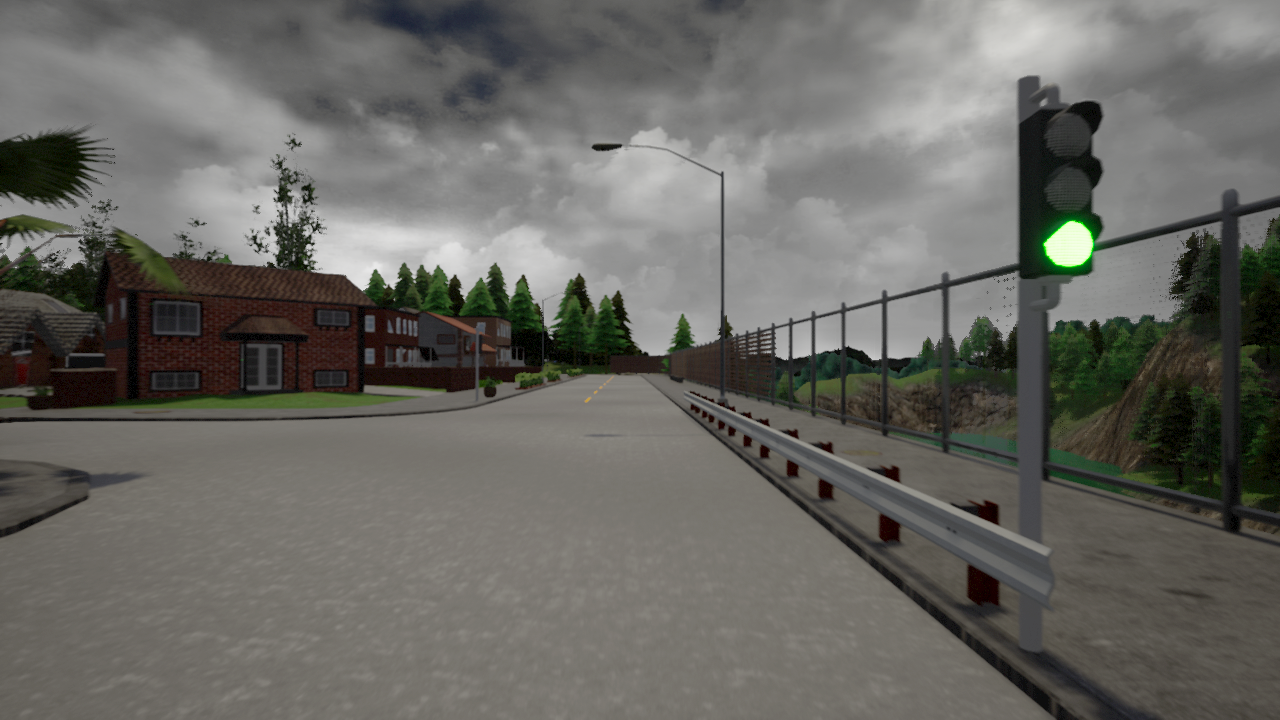green: (1028, 95, 1104, 278)
